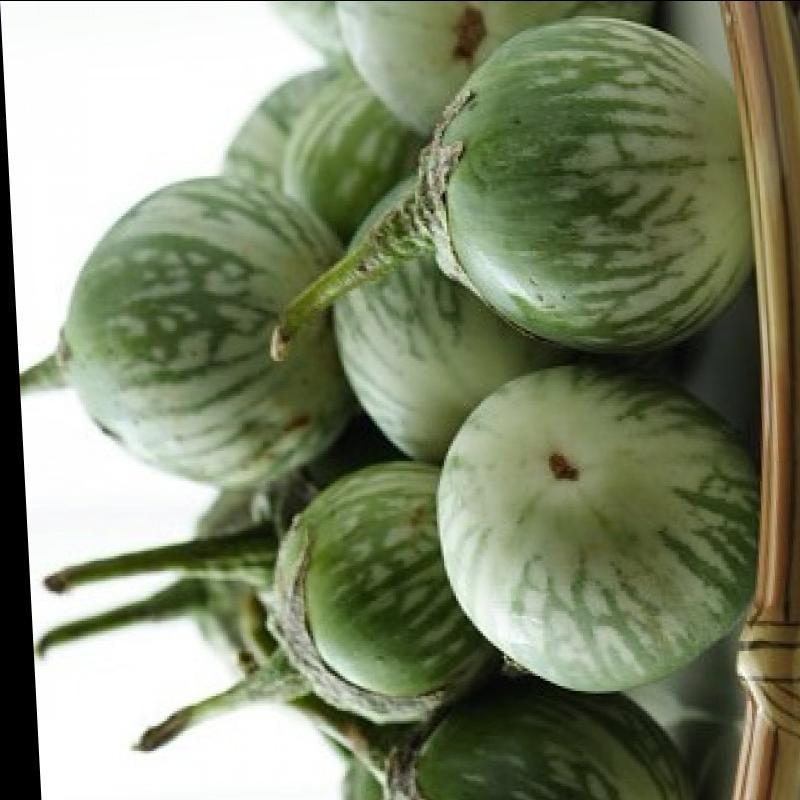eggplant: (39, 459, 439, 741)
